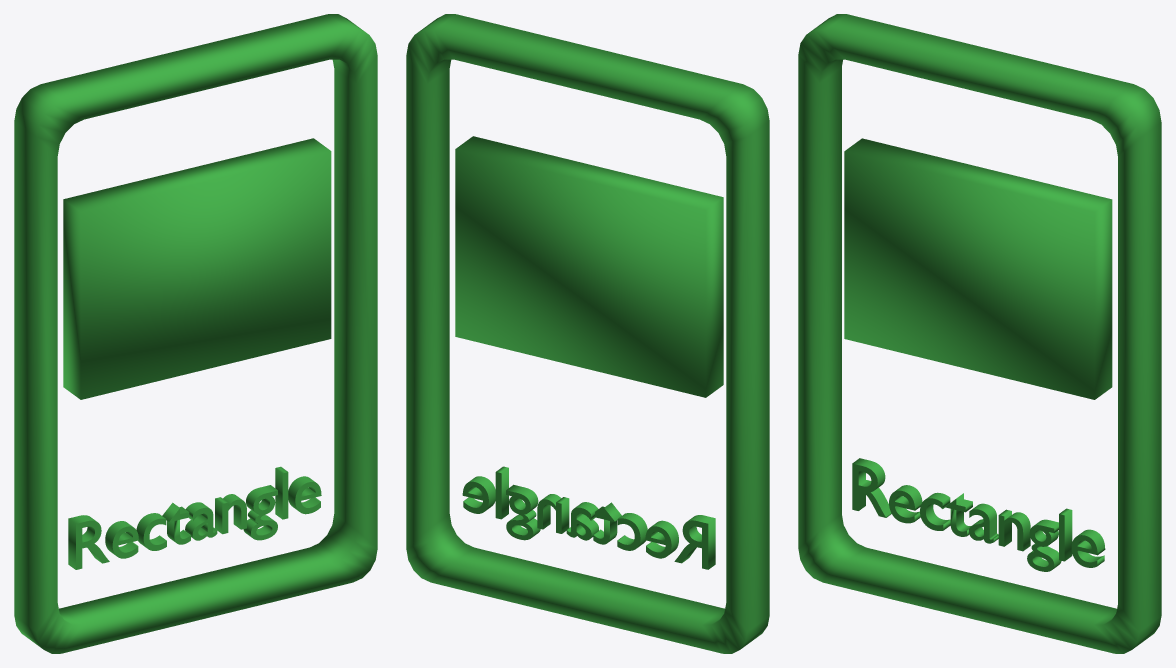
The picture shows the model from 3 angles, left to right: view 1: azimuth 30°, elevation 25°; view 2: azimuth 150°, elevation 25°; view 3: azimuth 330°, elevation 25°; orthographic projection.
Visible parts, largest first — view 1: Text.009; view 2: Text.009; view 3: Text.009.
Boxes of the visible parts, x1,y1,x2,y2 form: Text.009: [14, 14, 377, 653]; Text.009: [406, 14, 769, 653]; Text.009: [798, 14, 1161, 653].
Bounding box in the file's own units: 1 × 1.56 × 0.1143.
